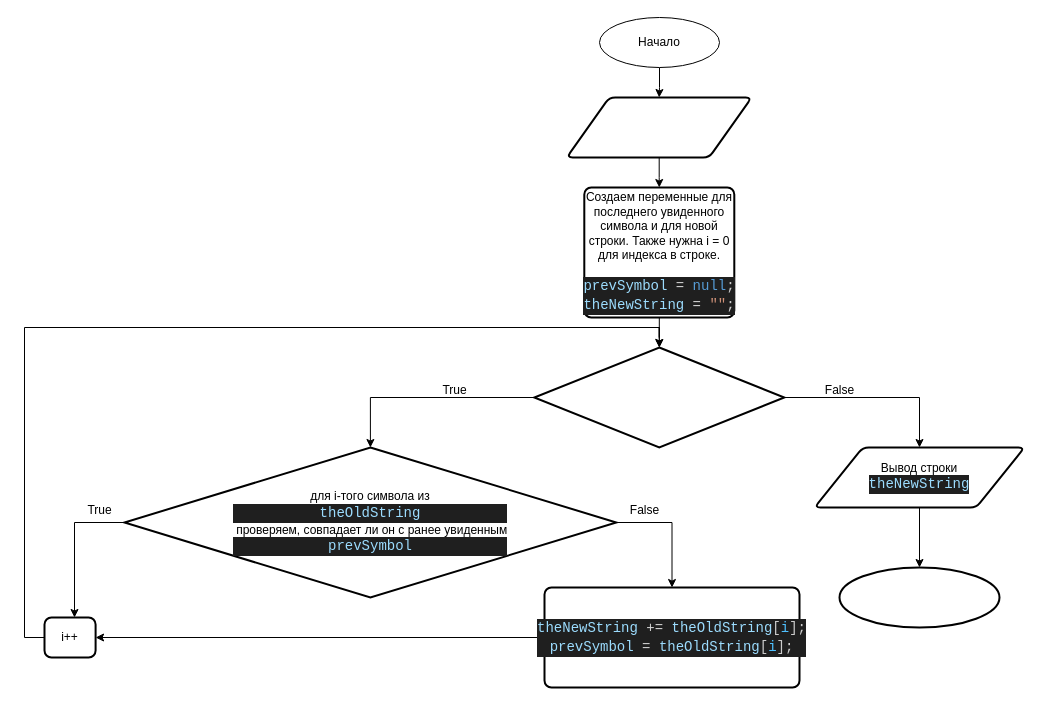
Some shapes in this 1043 by 706 pixel diagram are drawn without their labels. The centre of each missing label's shape, as x and y in pixels:
"Ввод строки theOldString" goes at point (658, 127).
"Конец" goes at point (919, 597).
"Существует ли theOldString [ i ]" goes at point (659, 397).
